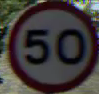Speed limit: (7, 1, 92, 86)
